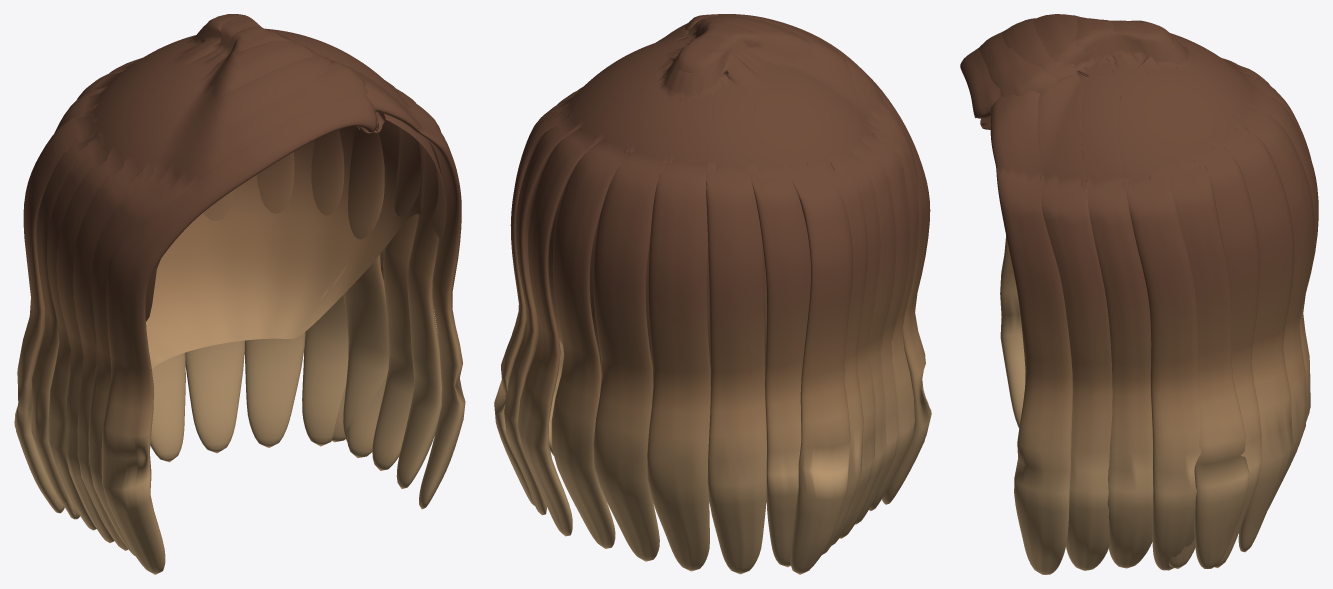
File: straight-pashmina-ombre.glb
The picture shows the model from 3 angles, left to right: view 1: azimuth 30°, elevation 25°; view 2: azimuth 150°, elevation 25°; view 3: azimuth 270°, elevation 25°; orthographic projection. The views are drawn at different scales.
Visible parts, largest first — view 1: 226 hair / Hair / sculpted 0.001, 226 hair / Hair / sculpted 1.002, 226 hair / Hair / sculpted 2.001, 226 hair / Hair / sculpted 1.001; view 2: 226 hair / Hair / sculpted 0.001, 226 hair / Hair / sculpted 2.001, 226 hair / Hair / sculpted 1.002, 226 hair / Hair / sculpted 1.001; view 3: 226 hair / Hair / sculpted 1.002, 226 hair / Hair / sculpted 2.001, 226 hair / Hair / sculpted 0.001.
Boxes of the visible parts, bbox=[...] form: 226 hair / Hair / sculpted 0.001: bbox=[14, 14, 421, 574]; 226 hair / Hair / sculpted 1.002: bbox=[47, 26, 465, 555]; 226 hair / Hair / sculpted 2.001: bbox=[31, 16, 441, 550]; 226 hair / Hair / sculpted 1.001: bbox=[145, 114, 446, 368]; 226 hair / Hair / sculpted 0.001: bbox=[517, 16, 931, 574]; 226 hair / Hair / sculpted 2.001: bbox=[494, 14, 909, 567]; 226 hair / Hair / sculpted 1.002: bbox=[512, 14, 919, 574]; 226 hair / Hair / sculpted 1.001: bbox=[548, 186, 766, 372]; 226 hair / Hair / sculpted 1.002: bbox=[979, 17, 1314, 574]; 226 hair / Hair / sculpted 2.001: bbox=[1002, 18, 1318, 570]; 226 hair / Hair / sculpted 0.001: bbox=[960, 14, 1310, 568].
Bounding box in the file's own units: 0.8199 × 1.05 × 0.703.
